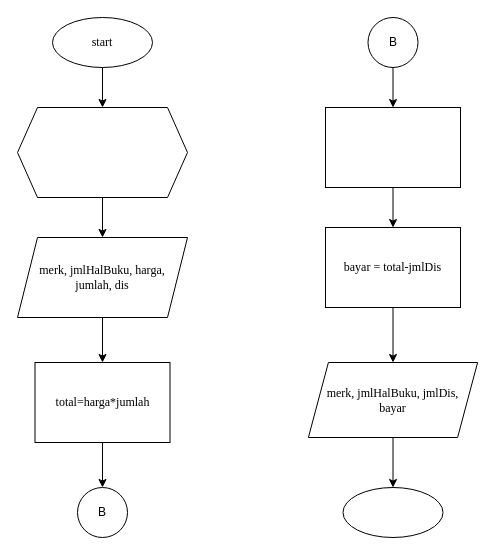
This 496x555 diagram has some shape labels left out. Each missing label, with the box of its shape:
end: (342, 486, 443, 538)
jmlDis=total*dis: (324, 106, 460, 188)
String merk int harga, jumlah, jmlHalBuku double dis, total, bayar, jmlDis: (16, 106, 188, 198)
